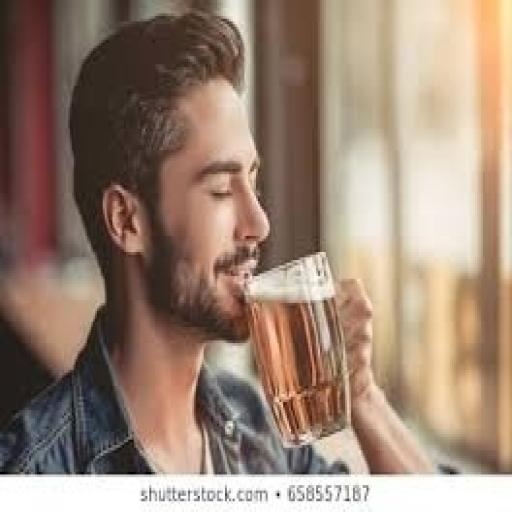drinking: (241, 249, 351, 448)
